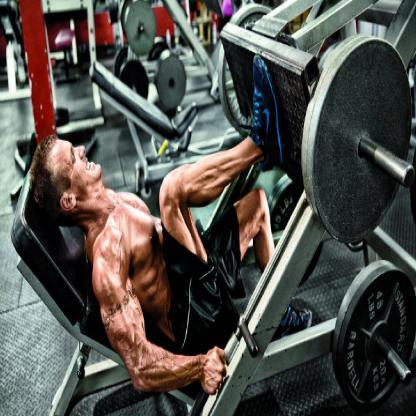leg press: (5, 0, 416, 416)
